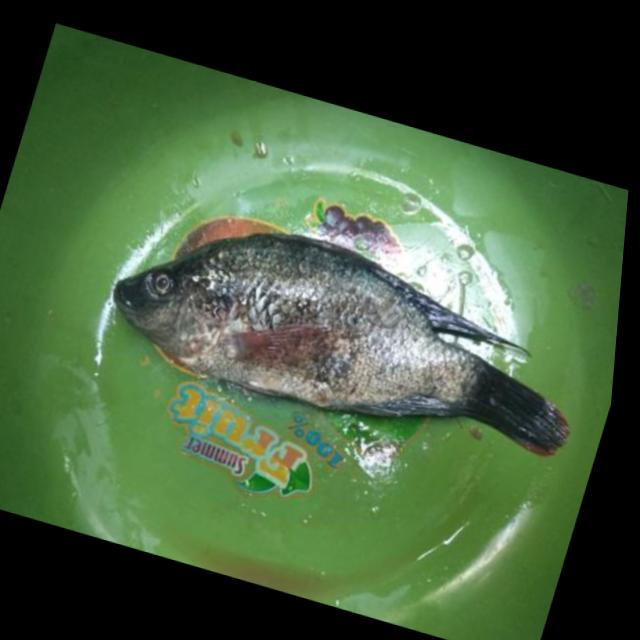Tilapia: (86, 186, 609, 485)
